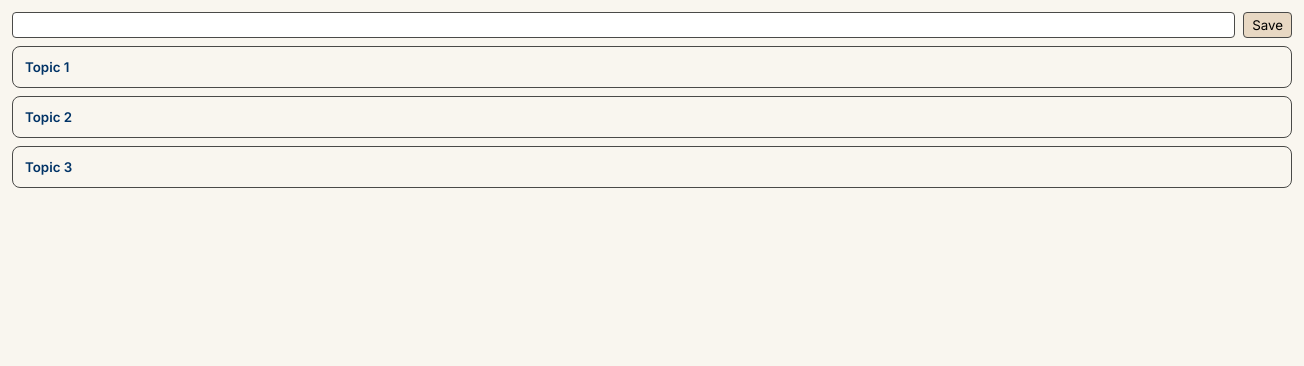
Test: TopicLayoutPreview › renders three suggestion tabs for the selected topic
The width and height of the screenshot is (1304, 366).
Step 1. Click the button "Topic 1" → point(47, 67), box top-left (21, 55), bottom-right (1283, 79)
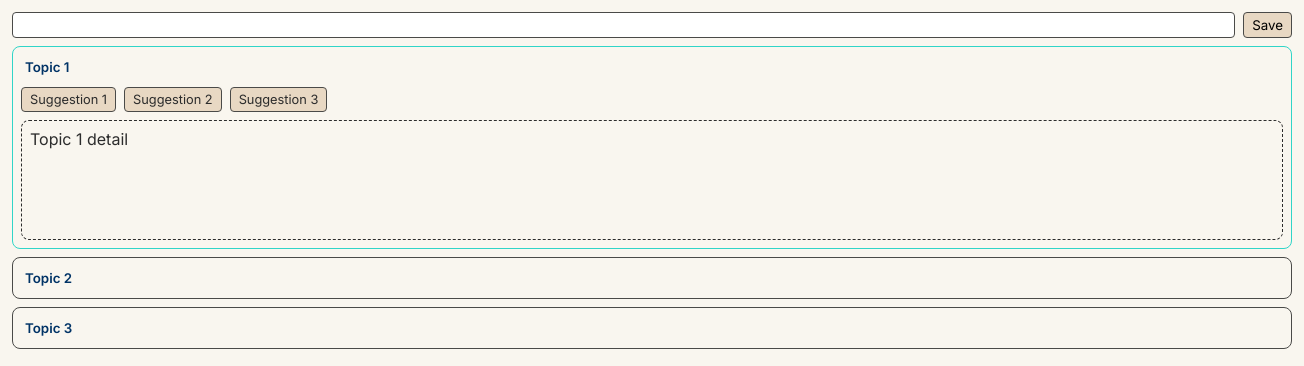
Check: the button "Suggestion 1" is shown, box top-left (21, 87), bottom-right (116, 112)
Check: the button "Suggestion 2" is shown, box top-left (124, 87), bottom-right (222, 112)
Check: the button "Suggestion 3" is shown, box top-left (230, 87), bottom-right (327, 112)
